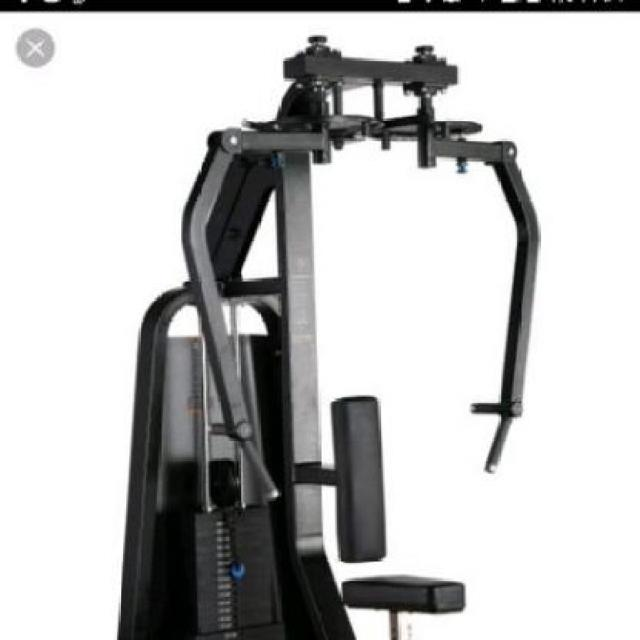chest fly machine: (97, 24, 551, 640)
